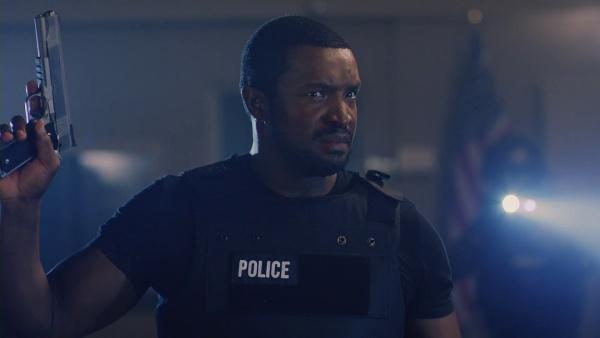Gun: (0, 10, 76, 178)
